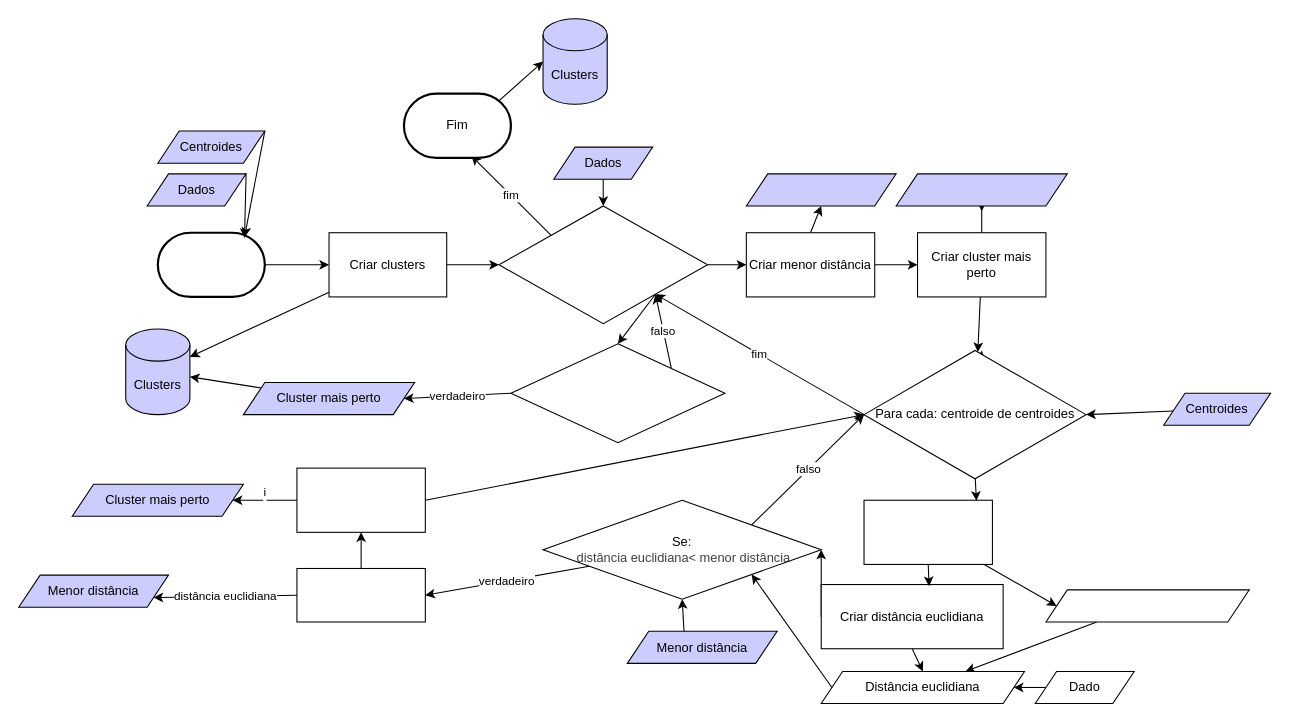
Some shapes in this 1289 by 722 pixel diagram are drawn without their labels. Here are the shapes that lost their labels. From the top down, the box of each, then its label:
(745, 173, 896, 206): Menor distância = ∞
(895, 173, 1067, 206): Cluster mais perto = -1
(156, 231, 265, 297): Inicio
(498, 205, 708, 324): Para cada: dado de dados
(510, 343, 725, 443): Se para cada centroide acabou
(296, 467, 425, 532): cluster mais perto = i
(863, 499, 992, 564): Criar centroide atual
(296, 567, 425, 622): Menor distância = distância euclidiana
(1045, 589, 1249, 622): Centroide Atual = centroides[i]
